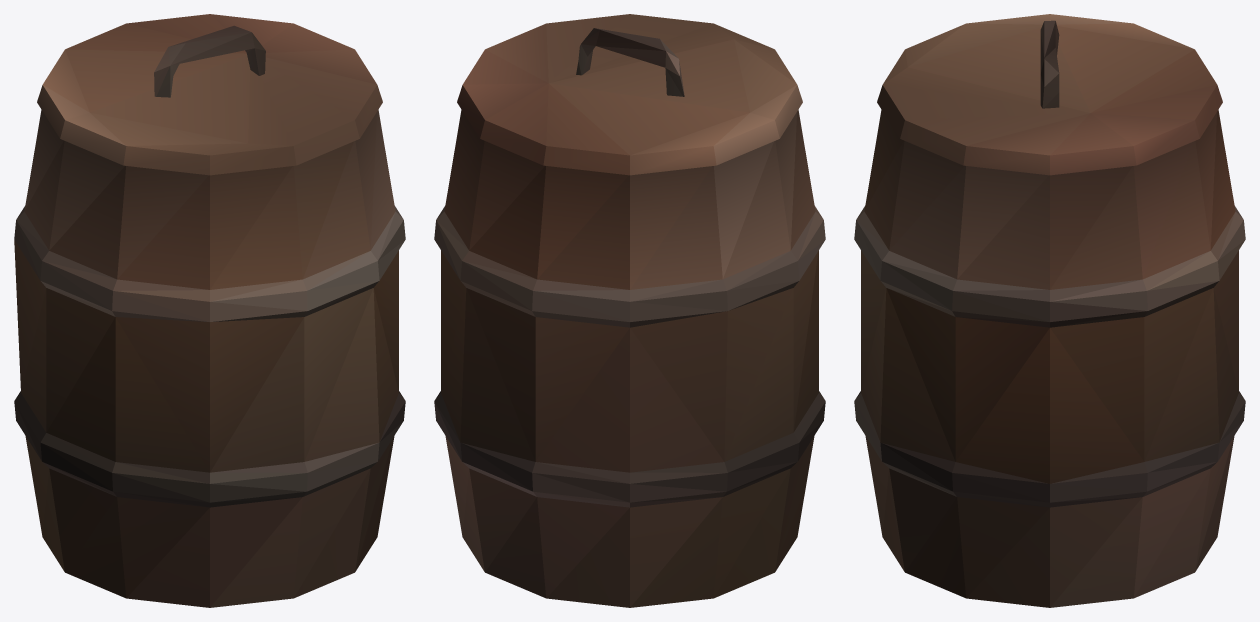
File: Prop_BarrelCappedA.fbx
3 views of the same model, side by side, from view 1: azimuth 30°, elevation 25°; view 2: azimuth 150°, elevation 25°; view 3: azimuth 270°, elevation 25° (orthographic).
Visible parts, largest first — view 1: Prop_BarrelCappedA; view 2: Prop_BarrelCappedA; view 3: Prop_BarrelCappedA.
Boxes of the visible parts, box(x1,y1,x2,y2) form: Prop_BarrelCappedA: box(14, 14, 405, 607); Prop_BarrelCappedA: box(434, 14, 825, 607); Prop_BarrelCappedA: box(854, 14, 1245, 607).
Size of the model in its own units: 102 by 145 by 102.
